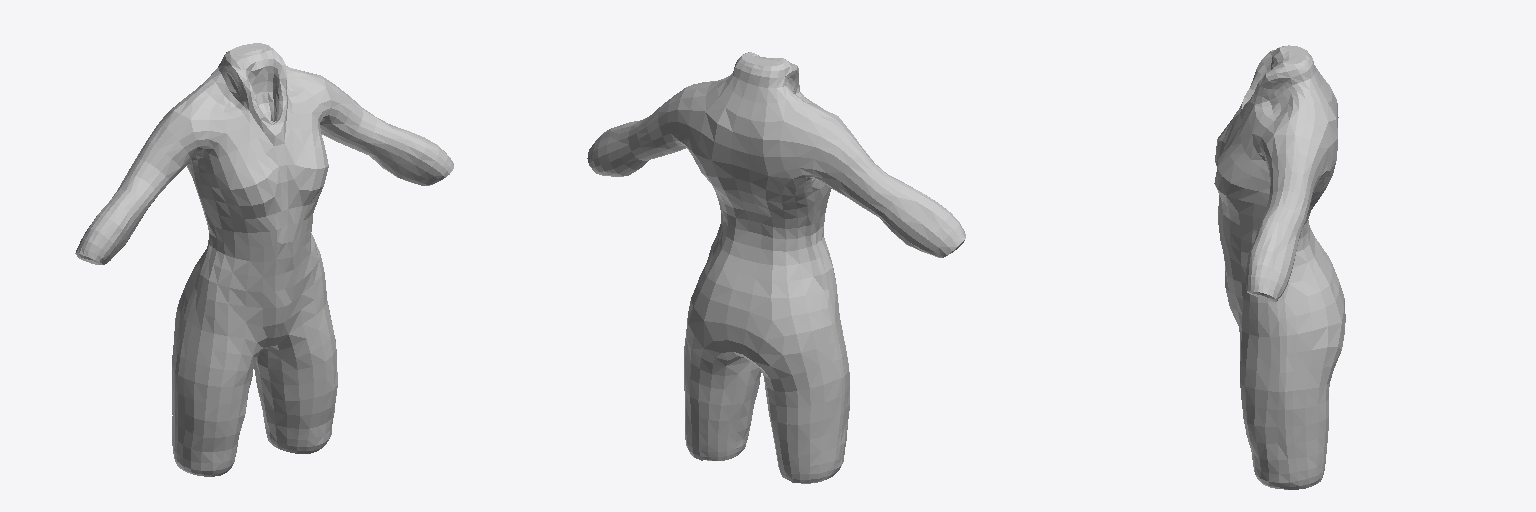
Rendered from Jumpsuit.OBJ.
3 renders of one model, left to right at view 1: azimuth 30°, elevation 25°; view 2: azimuth 150°, elevation 25°; view 3: azimuth 270°, elevation 25°, orthographic.
Parts seen in each view (by area): view 1: Group11885; view 2: Group11885; view 3: Group11885.
Boxes of the visible parts, <box> form: Group11885: <box>75,43,453,476</box>; Group11885: <box>587,52,965,483</box>; Group11885: <box>1214,45,1345,489</box>.
Bounding box in the file's own units: 127 × 131 × 38.58.